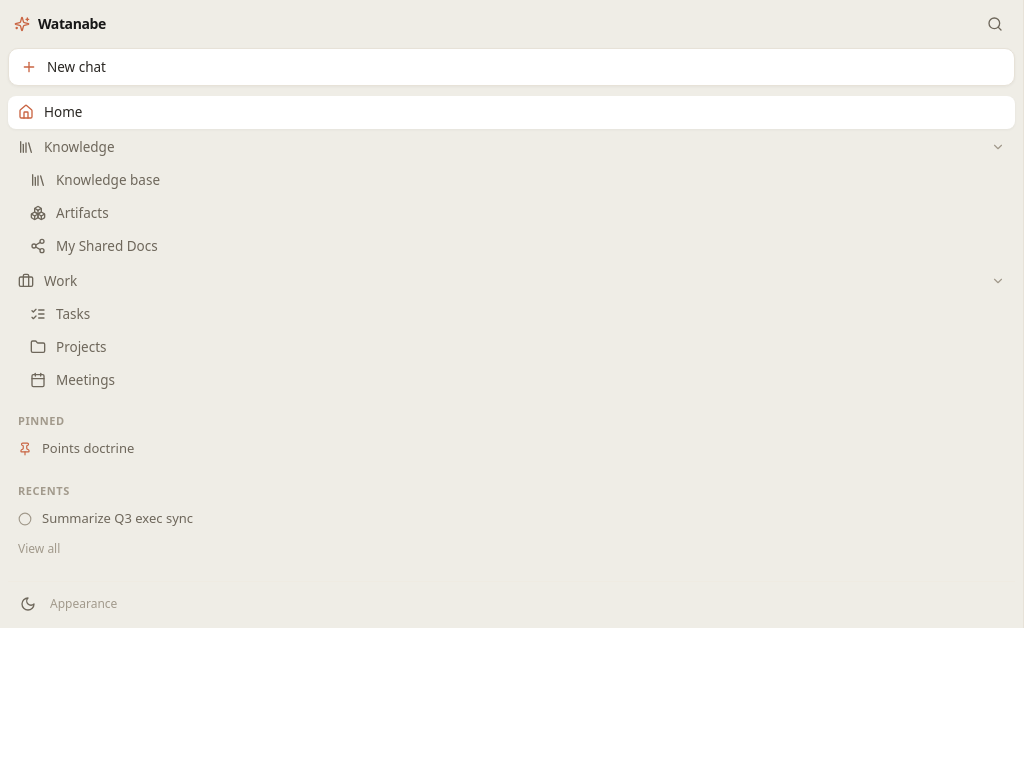
it: Sidebar › exposes the header Search control that opens the global palette
Note: Clicking it opens the command palette dialog.
Click the button named "search": point(995, 24) [981,10,1009,38]
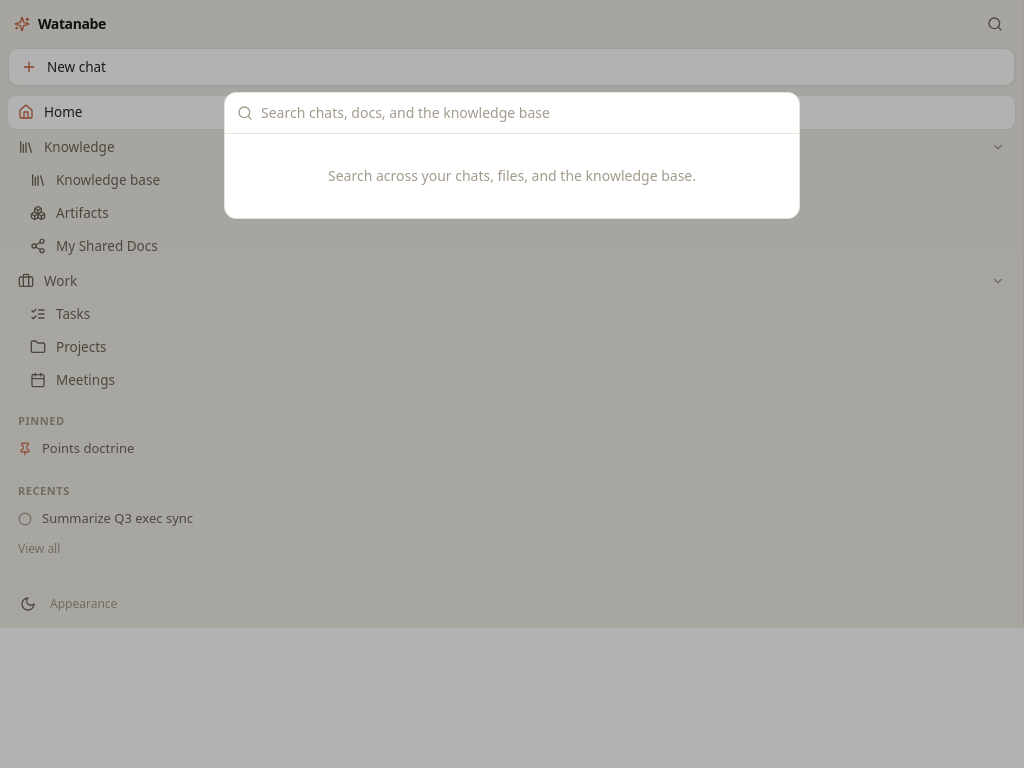
Now the dialog named "global search" is shown, box [224,92,800,219]
